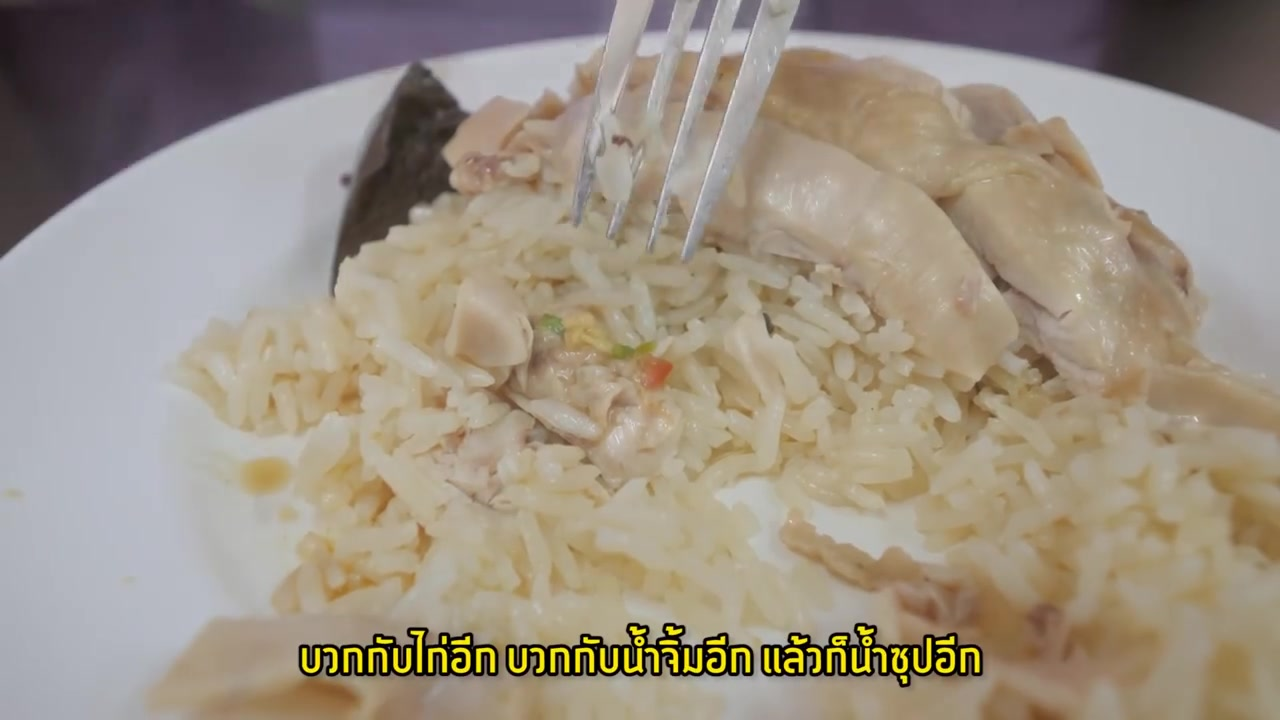text-label: (293, 619, 988, 687)
